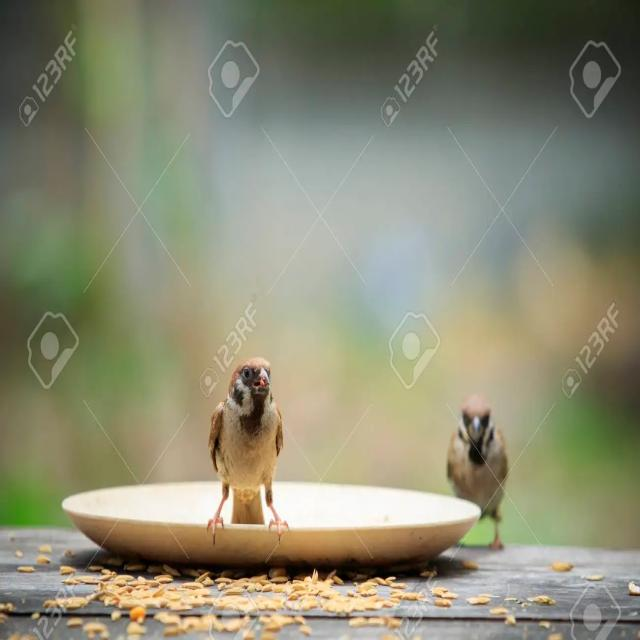bird: (201, 355, 294, 527), (446, 390, 517, 552)
